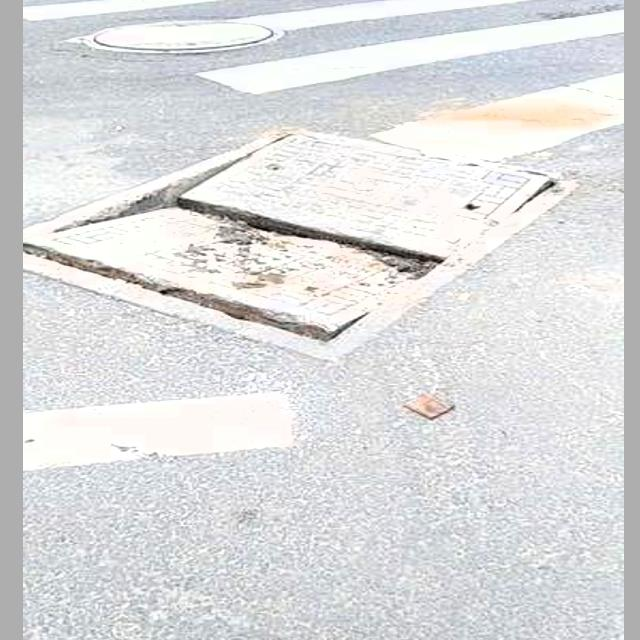broke: (27, 101, 582, 364)
